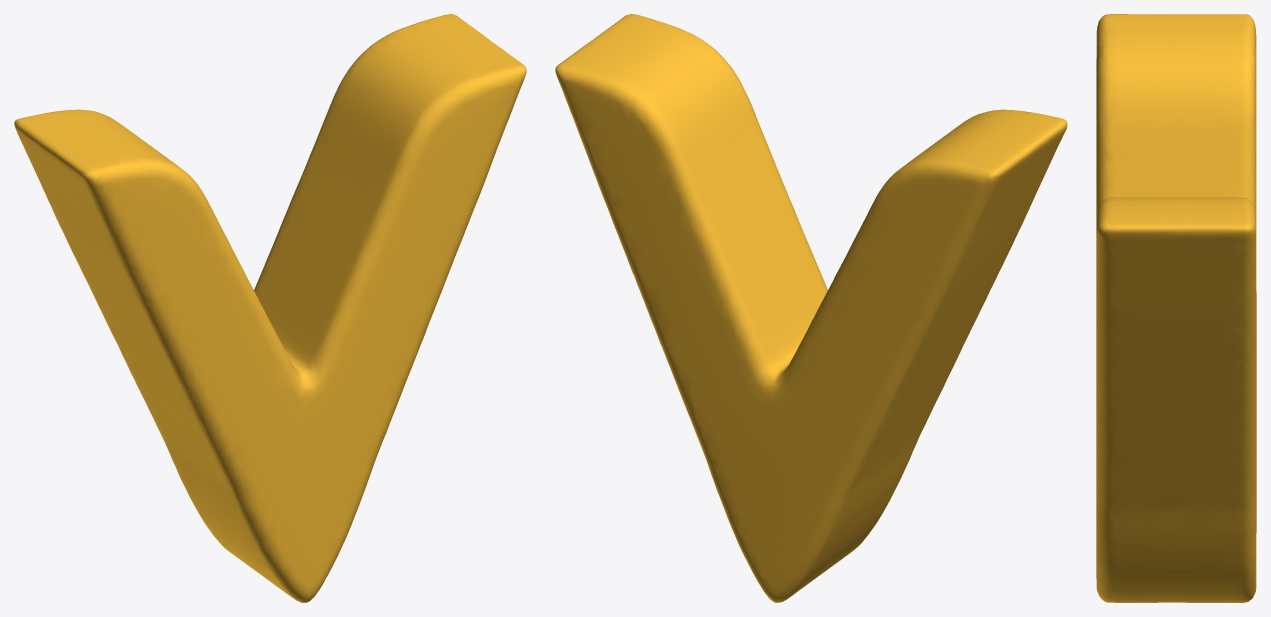
Rendered from VGLD1.glb.
The picture shows the model from 3 angles, left to right: view 1: azimuth 30°, elevation 25°; view 2: azimuth 150°, elevation 25°; view 3: azimuth 270°, elevation 25°; orthographic projection.
Visible parts, largest first — view 1: Mesh_0; view 2: Mesh_0; view 3: Mesh_0.
Part boxes in pixels (box(x1,y1,x2,y2)): Mesh_0: box(14, 14, 526, 602); Mesh_0: box(555, 14, 1067, 602); Mesh_0: box(1096, 14, 1256, 602).
Size of the model in its own units: 1.91 by 2 by 0.6033.
